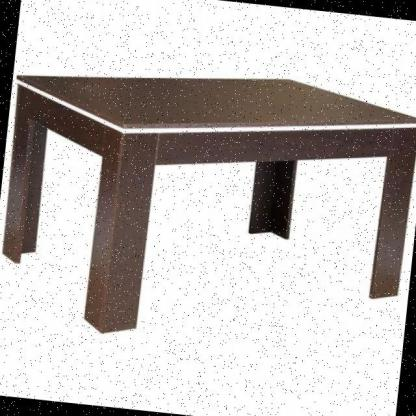Table: (0, 35, 416, 386)
